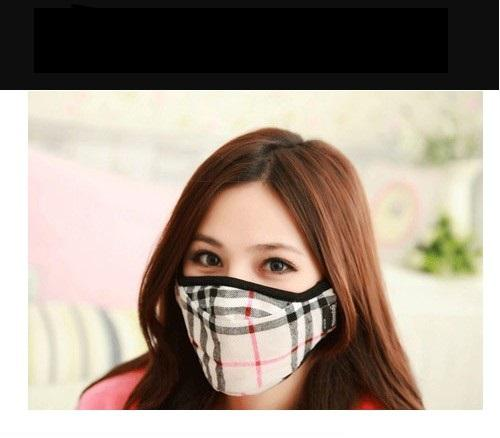OK: (175, 231, 339, 395)
